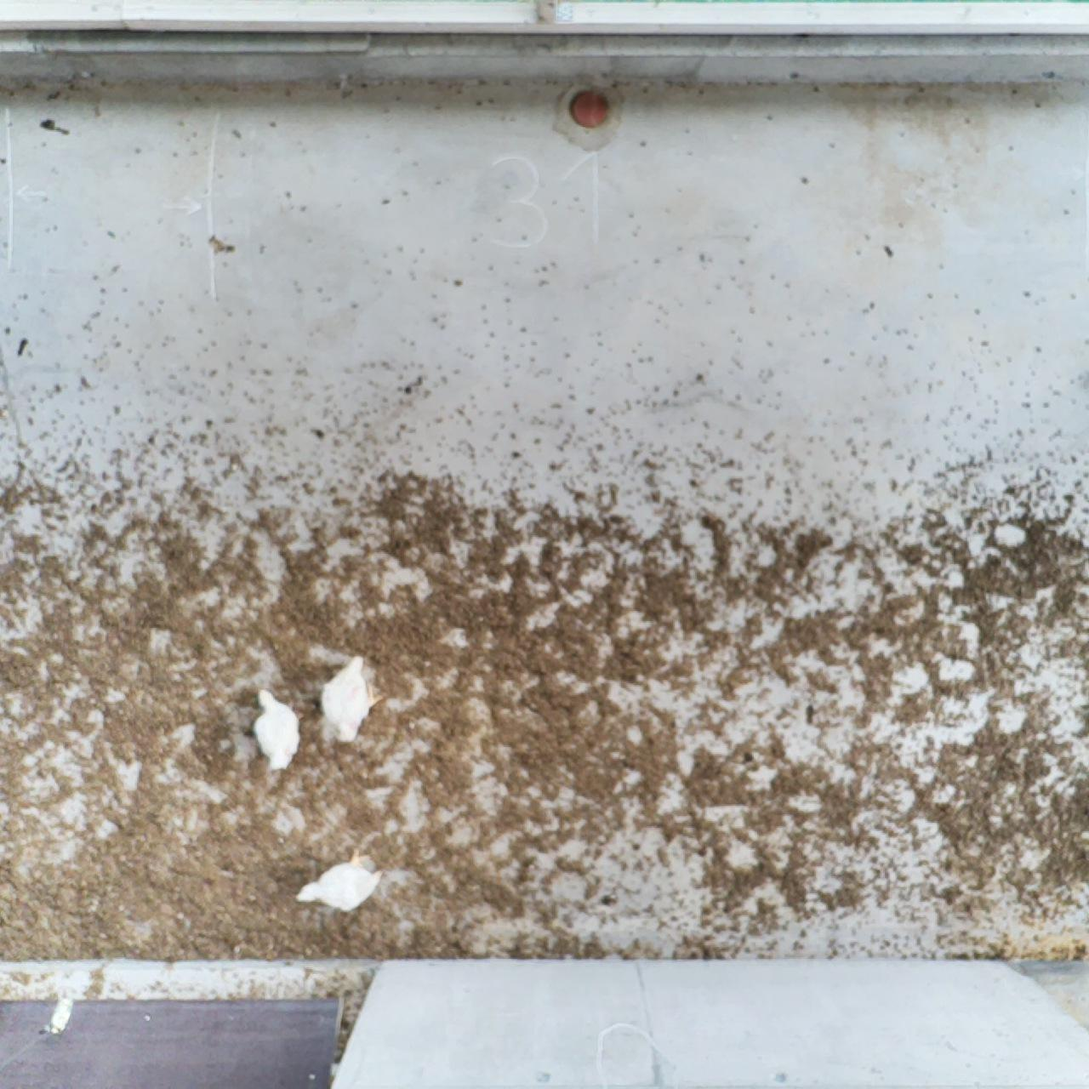chicken: (313, 648, 378, 750), (243, 680, 306, 775), (296, 858, 388, 917)
